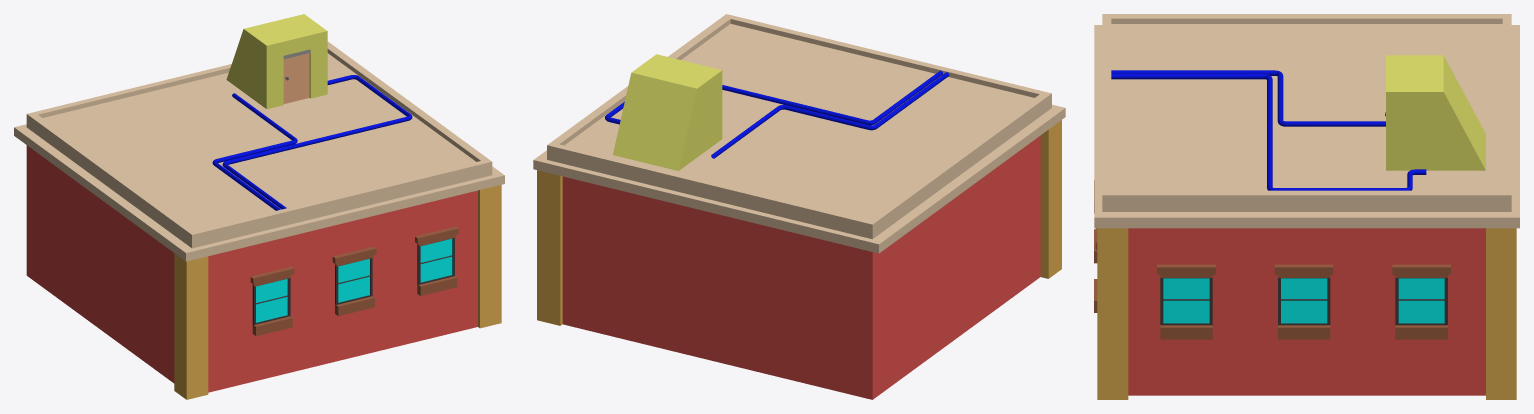
The model's file is building_12.fbx.
3 renders of one model, left to right at view 1: azimuth 30°, elevation 25°; view 2: azimuth 150°, elevation 25°; view 3: azimuth 270°, elevation 25°, orthographic. The views are drawn at different scales.
Visible parts, largest first — view 1: Cube.126; view 2: Cube.126; view 3: Cube.126.
Boxes of the visible parts, left/top/right/bottom form: Cube.126: left=14, top=14, right=504, bottom=399; Cube.126: left=533, top=14, right=1065, bottom=399; Cube.126: left=1094, top=14, right=1519, bottom=399.
Bounding box in the file's own units: 1544 × 1022 × 1443.
